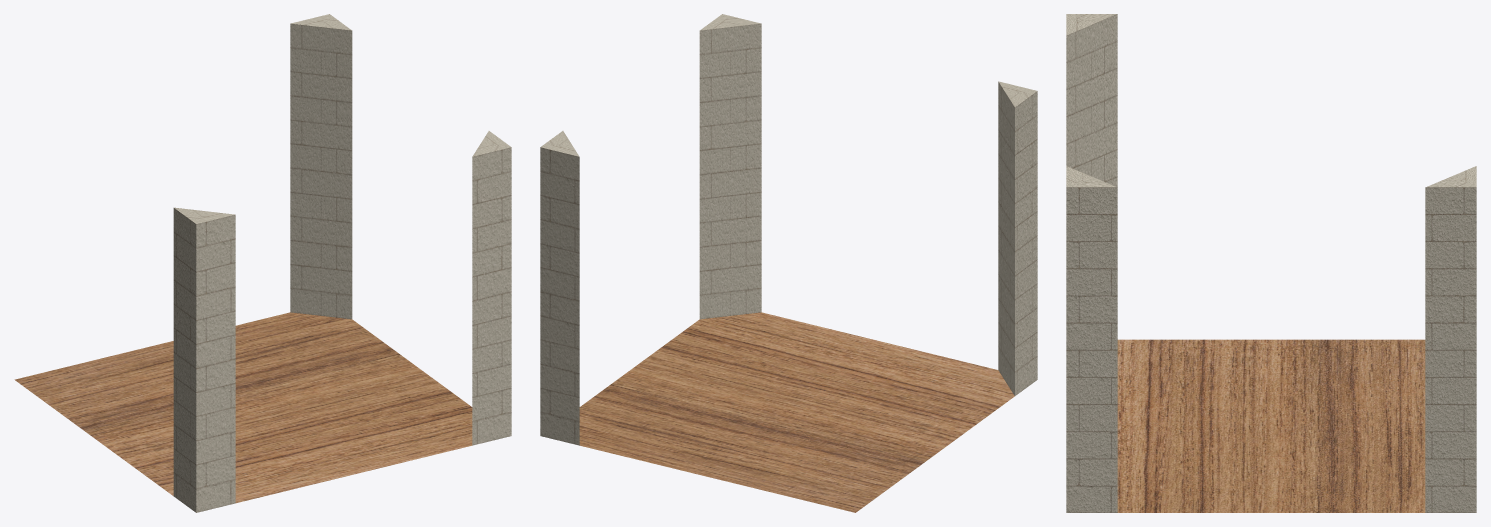
File: walls_for_game.glb
3 views of the same model, side by side, from view 1: azimuth 30°, elevation 25°; view 2: azimuth 150°, elevation 25°; view 3: azimuth 270°, elevation 25° (orthographic). The views are drawn at different scales.
Parts seen in each view (by area): view 1: Plane.007, Cube.011, Cube.013, Cube.012; view 2: Plane.007, Cube.012, Cube.011, Cube.013; view 3: Plane.007, Cube.011, Cube.012, Cube.013.
Part boxes in pixels (x1,y1,x2,y2): Plane.007: (14,312,472,503); Cube.011: (290,14,352,319); Cube.013: (173,207,235,512); Cube.012: (472,131,511,445); Plane.007: (579,312,1014,512); Cube.012: (699,14,761,319); Cube.011: (540,131,579,445); Cube.013: (998,81,1037,395); Plane.007: (1117,339,1425,512); Cube.011: (1425,166,1476,512); Cube.012: (1066,166,1117,512); Cube.013: (1066,14,1117,187).
Size of the model in its own units: 8 by 7 by 8.
Materials: 2 (2 with a texture image).
